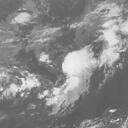cyclone: (60, 47, 103, 86)
